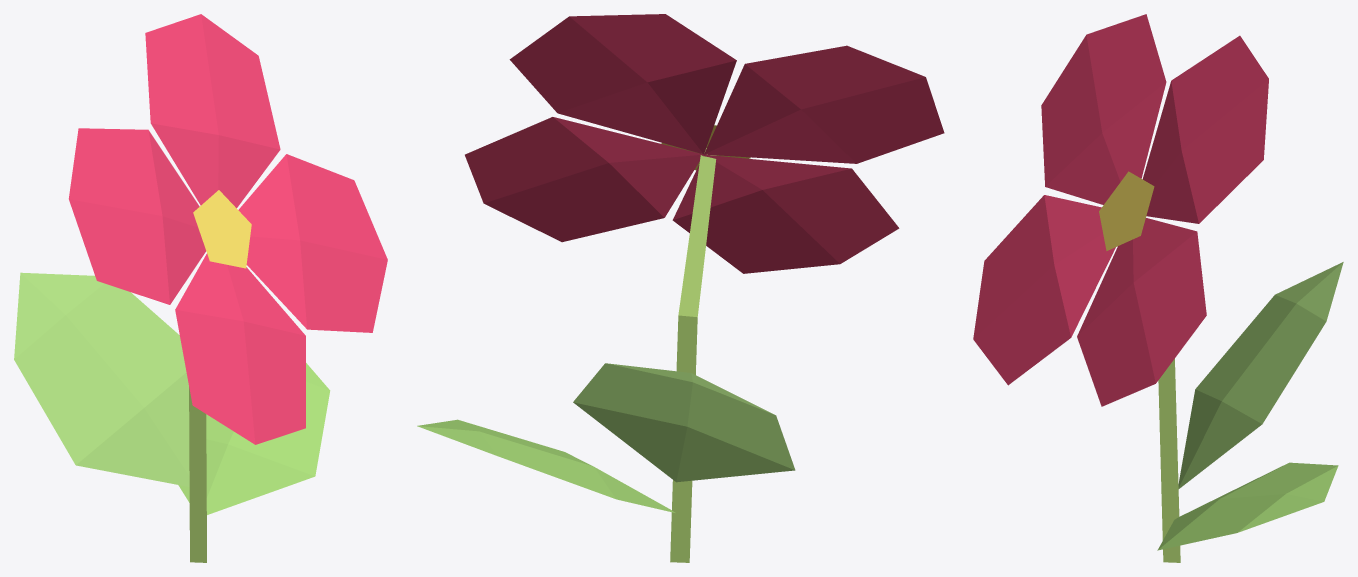
File: Flower_c_OneS_16.fbx
3 renders of one model, left to right at view 1: azimuth 30°, elevation 25°; view 2: azimuth 150°, elevation 25°; view 3: azimuth 270°, elevation 25°, orthographic. The views are drawn at different scales.
Parts seen in each view (by area): view 1: Flower_c_OneS_16; view 2: Flower_c_OneS_16; view 3: Flower_c_OneS_16.
Boxes of the visible parts, x1,y1,x2,y2 form: Flower_c_OneS_16: (14,14,387,562); Flower_c_OneS_16: (417,14,944,562); Flower_c_OneS_16: (973,14,1343,562).
Size of the model in its own units: 0.2878 by 0.3953 by 0.2578.
